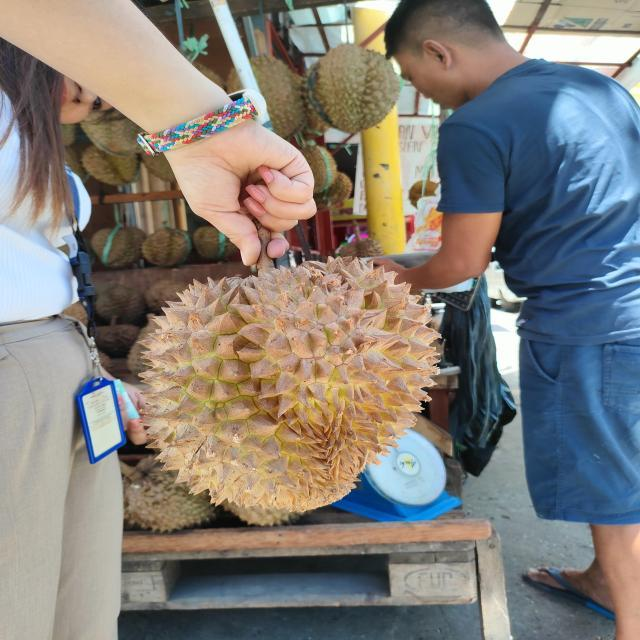mature: (133, 257, 443, 515)
